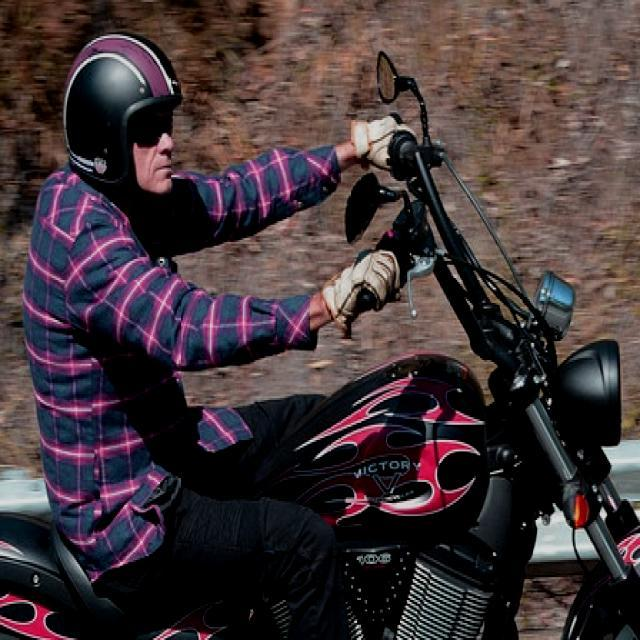Helmet: (54, 25, 193, 212)
